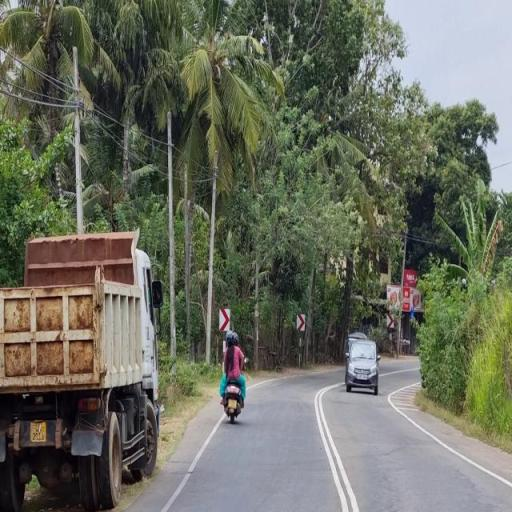double_white_line: (314, 382, 357, 512)
